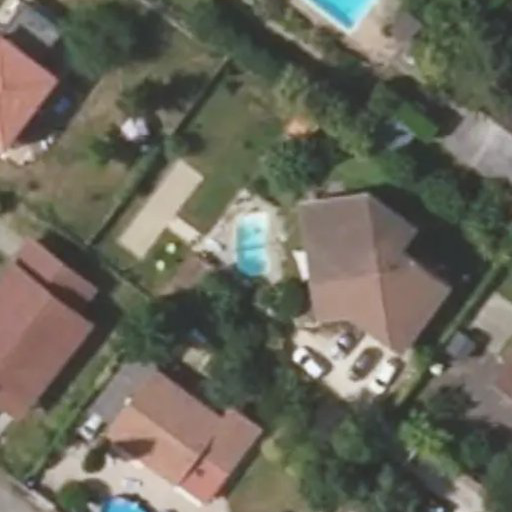pool: (236, 211, 276, 273)
